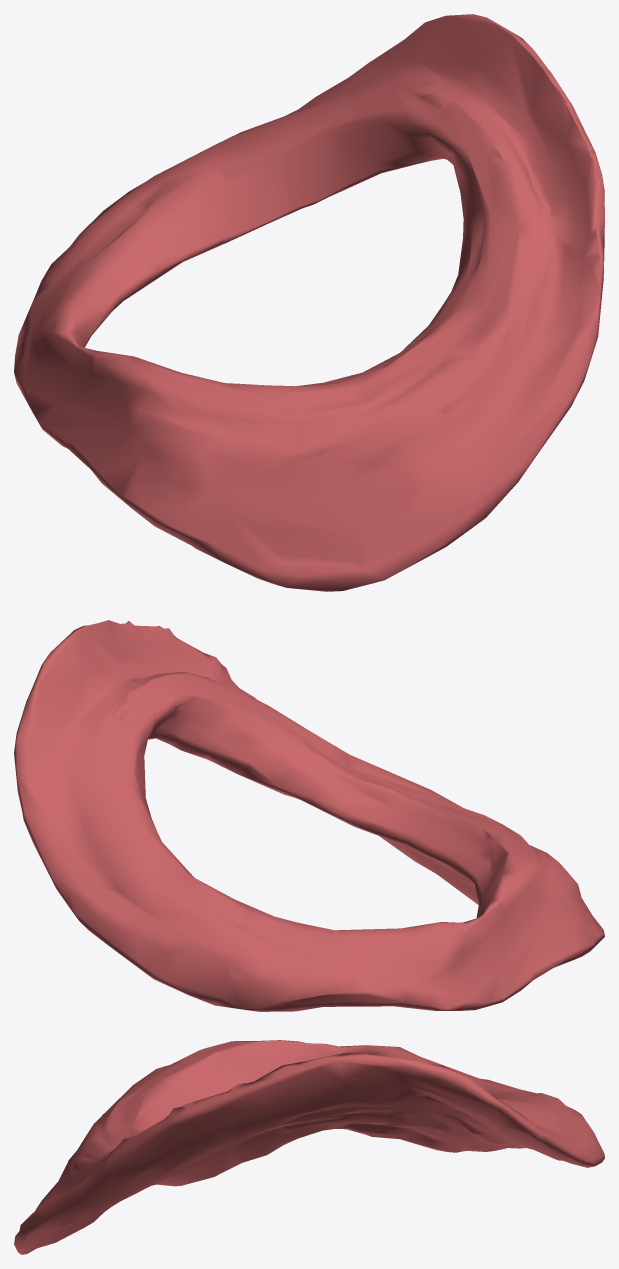
The picture shows the model from 3 angles, top to bottom: view 1: azimuth 30°, elevation 25°; view 2: azimuth 150°, elevation 25°; view 3: azimuth 270°, elevation 25°; orthographic projection. The views are drawn at different scales.
Parts seen in each view (by area): view 1: 左侧眼轮匝肌眶部; view 2: 左侧眼轮匝肌眶部; view 3: 左侧眼轮匝肌眶部.
Part boxes in pixels (x1=…): 左侧眼轮匝肌眶部: x1=14, y1=14, x2=604, y2=591; 左侧眼轮匝肌眶部: x1=14, y1=620, x2=604, y2=1011; 左侧眼轮匝肌眶部: x1=14, y1=1040, x2=604, y2=1254.
Bounding box in the file's own units: 0.0652 × 0.0462 × 0.0732.
